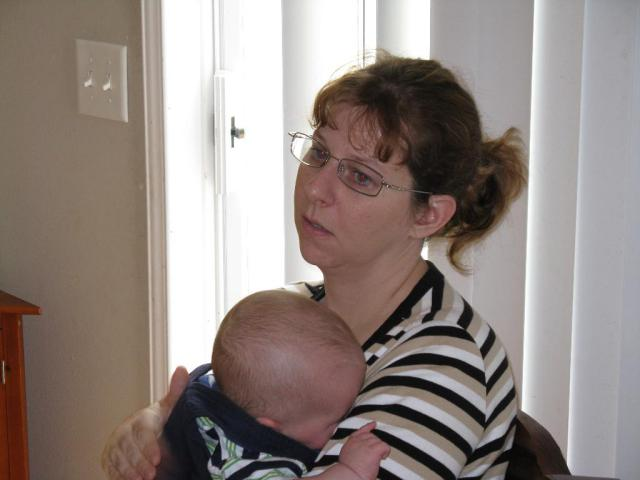Door-handle: (234, 115, 244, 147)
